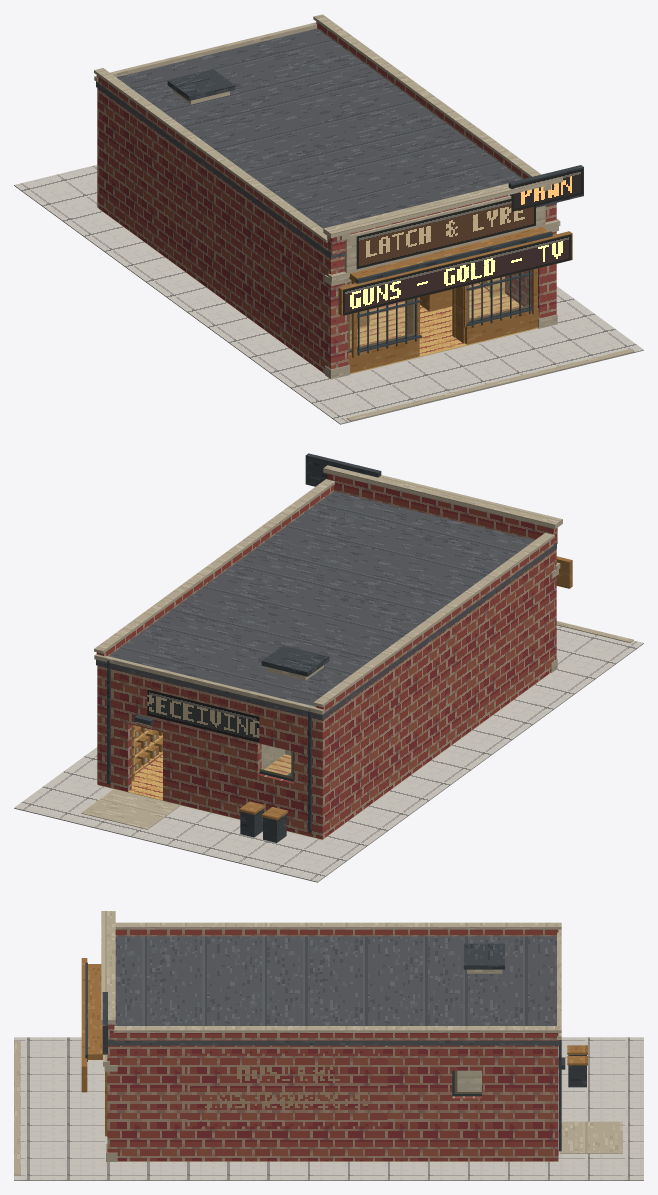
File: latch-and-lyre-1960.glb
3 views of the same model, one above another, from view 1: azimuth 30°, elevation 25°; view 2: azimuth 150°, elevation 25°; view 3: azimuth 270°, elevation 25° (orthographic). The views are drawn at different scales.
Visible parts, largest first — view 1: shell, lot, sign_name, fixed_interior, display_window_east, display_window_west, window_bars_east, window_bars_west; view 2: shell, lot, fixed_interior, display_stock; view 3: shell, lot, fixed_interior.
Boxes of the visible parts, x1,y1,x2,y2 form: shell: (94,14,583,379); lot: (14,165,643,424); sign_name: (356,198,535,269); fixed_interior: (98,208,537,374); display_window_east: (467,271,531,323); display_window_west: (348,281,414,352); window_bars_east: (466,270,533,327); window_bars_west: (357,298,421,355); shell: (94,453,572,839); lot: (14,621,643,882); fixed_interior: (98,673,549,839); display_stock: (135,726,162,771); shell: (81,911,565,1161); lot: (14,1037,643,1180); fixed_interior: (118,1070,558,1161).
Size of what is drawn, in the model's own units: 10.5 by 5.07 by 19.55.
12 materials, 12 textured.
